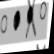correct: (11, 8, 22, 33)
not correct: (23, 0, 40, 39)
